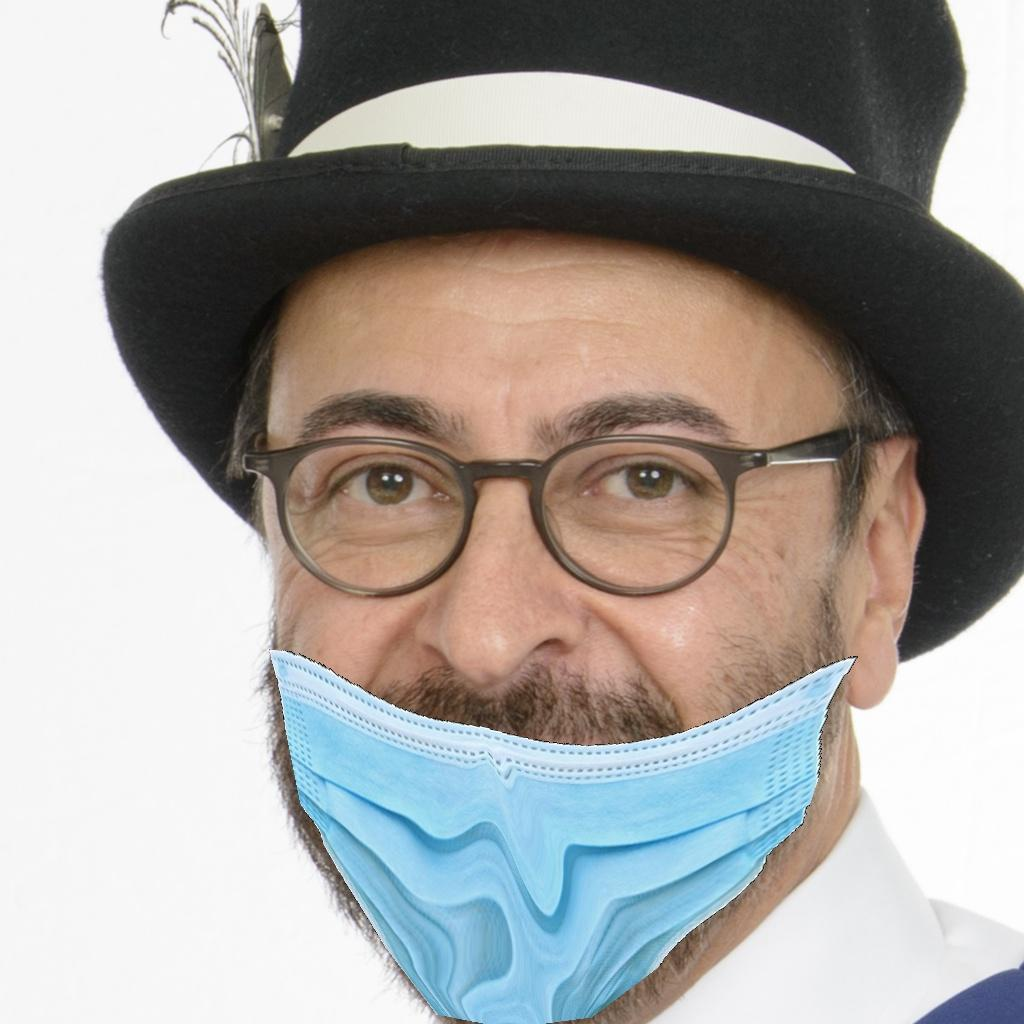Máscara Incorreta: (235, 361, 857, 999)
